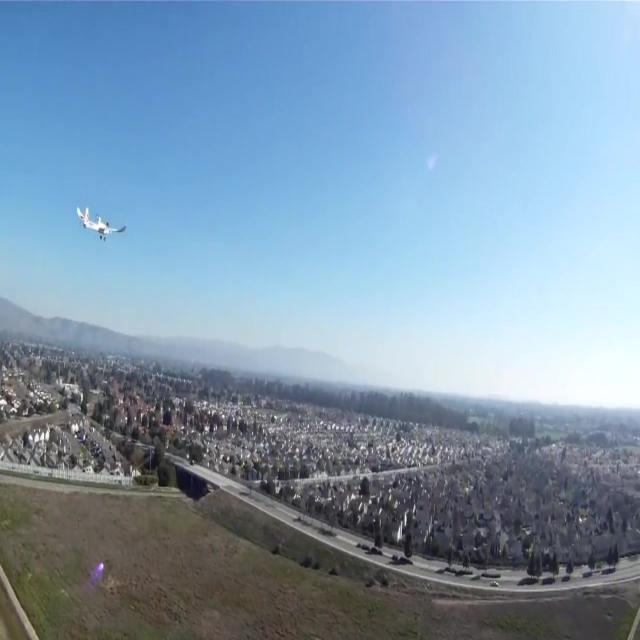iha: (13, 206, 62, 243)
